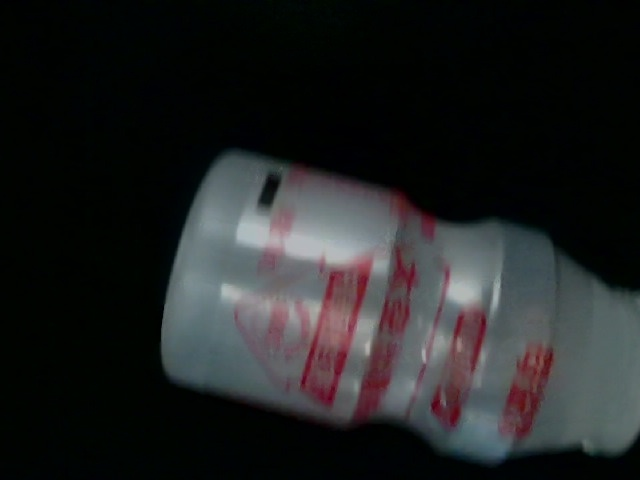CYLJ: (319, 33, 640, 313)
